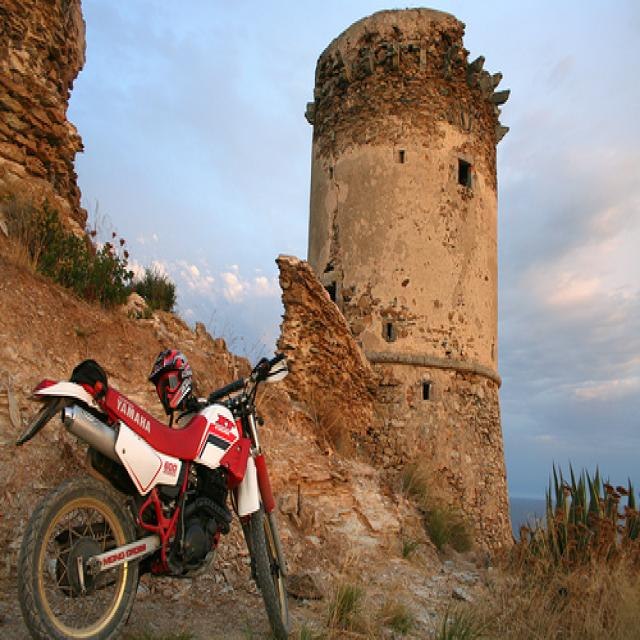motorbike: (19, 349, 291, 639)
